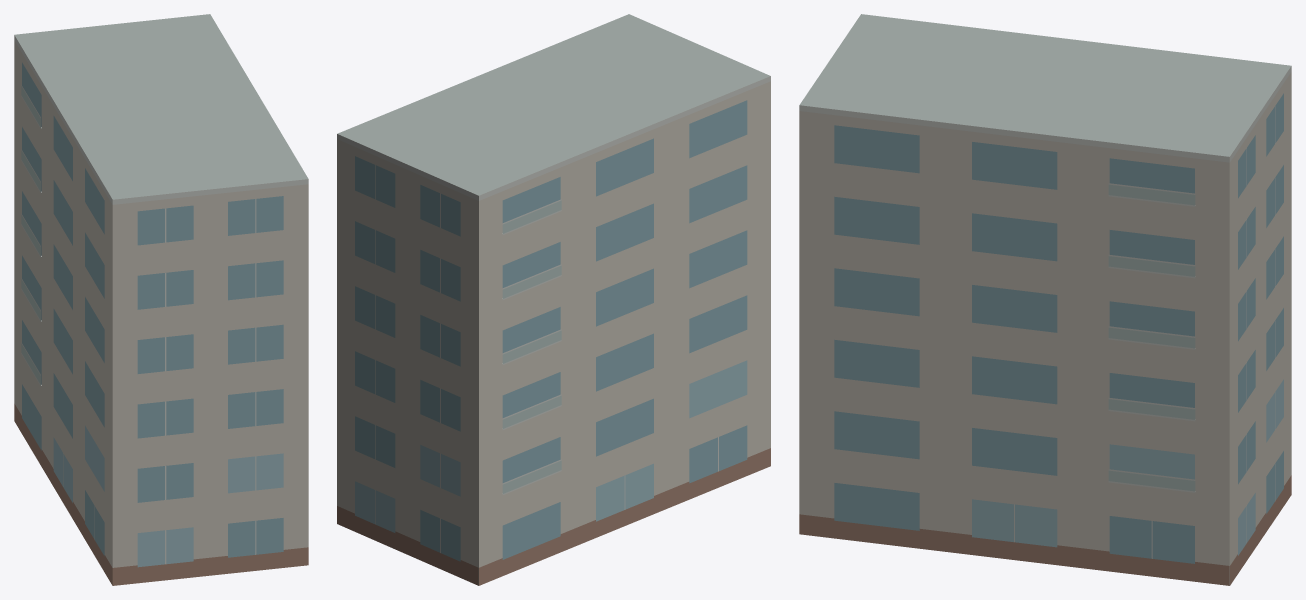
Rendered from survey-upis-32958839.glb.
3 renders of one model, left to right at view 1: azimuth 30°, elevation 25°; view 2: azimuth 150°, elevation 25°; view 3: azimuth 270°, elevation 25°, orthographic. The views are drawn at different scales.
Visible parts, largest first — view 1: survey-upis-32958839.tmp; view 2: survey-upis-32958839.tmp; view 3: survey-upis-32958839.tmp.
Boxes of the visible parts, x1,y1,x2,y2 form: survey-upis-32958839.tmp: [14, 14, 308, 585]; survey-upis-32958839.tmp: [337, 14, 770, 585]; survey-upis-32958839.tmp: [799, 14, 1291, 585].
Bounding box in the file's own units: 13.08 × 18.3 × 19.04.
